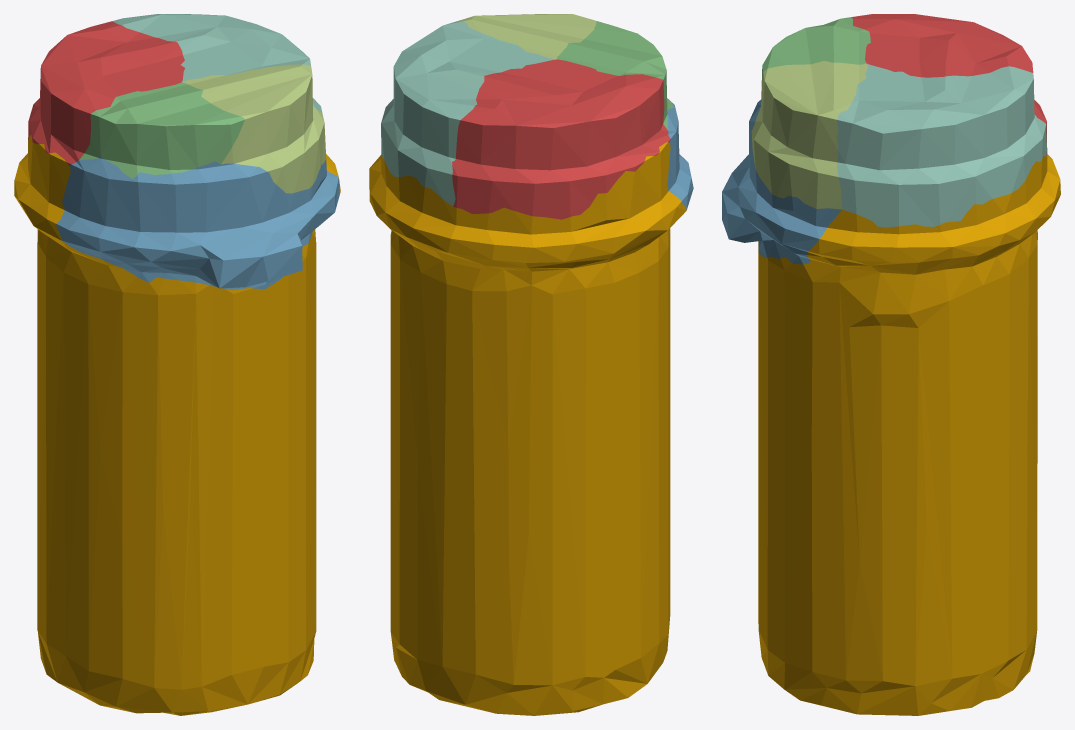
File: fractured_77_6pcs.glb
3 renders of one model, left to right at view 1: azimuth 30°, elevation 25°; view 2: azimuth 150°, elevation 25°; view 3: azimuth 270°, elevation 25°, orthographic.
Parts seen in each view (by area): view 1: piece_0.obj, piece_2.obj, piece_1.obj, piece_5.obj, piece_3.obj, piece_4.obj; view 2: piece_0.obj, piece_1.obj, piece_4.obj, piece_3.obj, piece_5.obj, piece_2.obj; view 3: piece_0.obj, piece_4.obj, piece_5.obj, piece_1.obj, piece_2.obj, piece_3.obj.
Part boxes in pixels (<box>): piece_0.obj: <box>14,134,340,715</box>; piece_2.obj: <box>56,157,339,289</box>; piece_1.obj: <box>28,21,184,165</box>; piece_5.obj: <box>182,64,326,193</box>; piece_3.obj: <box>79,82,244,179</box>; piece_4.obj: <box>112,14,322,112</box>; piece_0.obj: <box>369,142,686,715</box>; piece_1.obj: <box>452,59,670,219</box>; piece_4.obj: <box>381,21,556,206</box>; piece_3.obj: <box>557,21,673,130</box>; piece_5.obj: <box>458,14,596,59</box>; piece_2.obj: <box>667,98,693,209</box>; piece_0.obj: <box>758,154,1060,715</box>; piece_4.obj: <box>837,63,1046,227</box>; piece_5.obj: <box>751,61,867,209</box>; piece_1.obj: <box>851,14,1047,154</box>; piece_2.obj: <box>722,99,841,264</box>; piece_3.obj: <box>761,17,870,85</box>.
Size of the model in its own units: 0.4915 by 1 by 0.5126.
